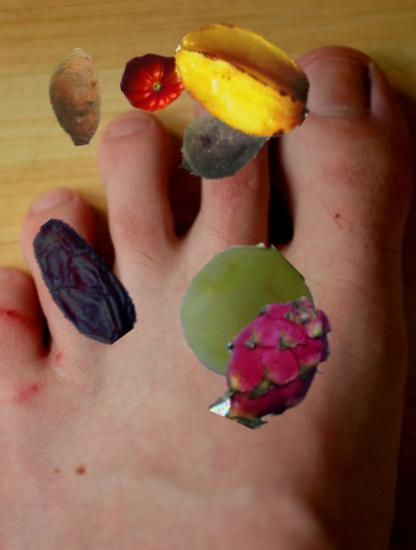Beetroot: (168, 77, 296, 205)
Carambula: (171, 6, 317, 152)
Dates: (12, 214, 149, 351)
Grape: (177, 247, 314, 384)
Pitahaya: (200, 288, 343, 431)
Potato: (27, 49, 126, 148)
Tomato: (120, 47, 191, 118)
